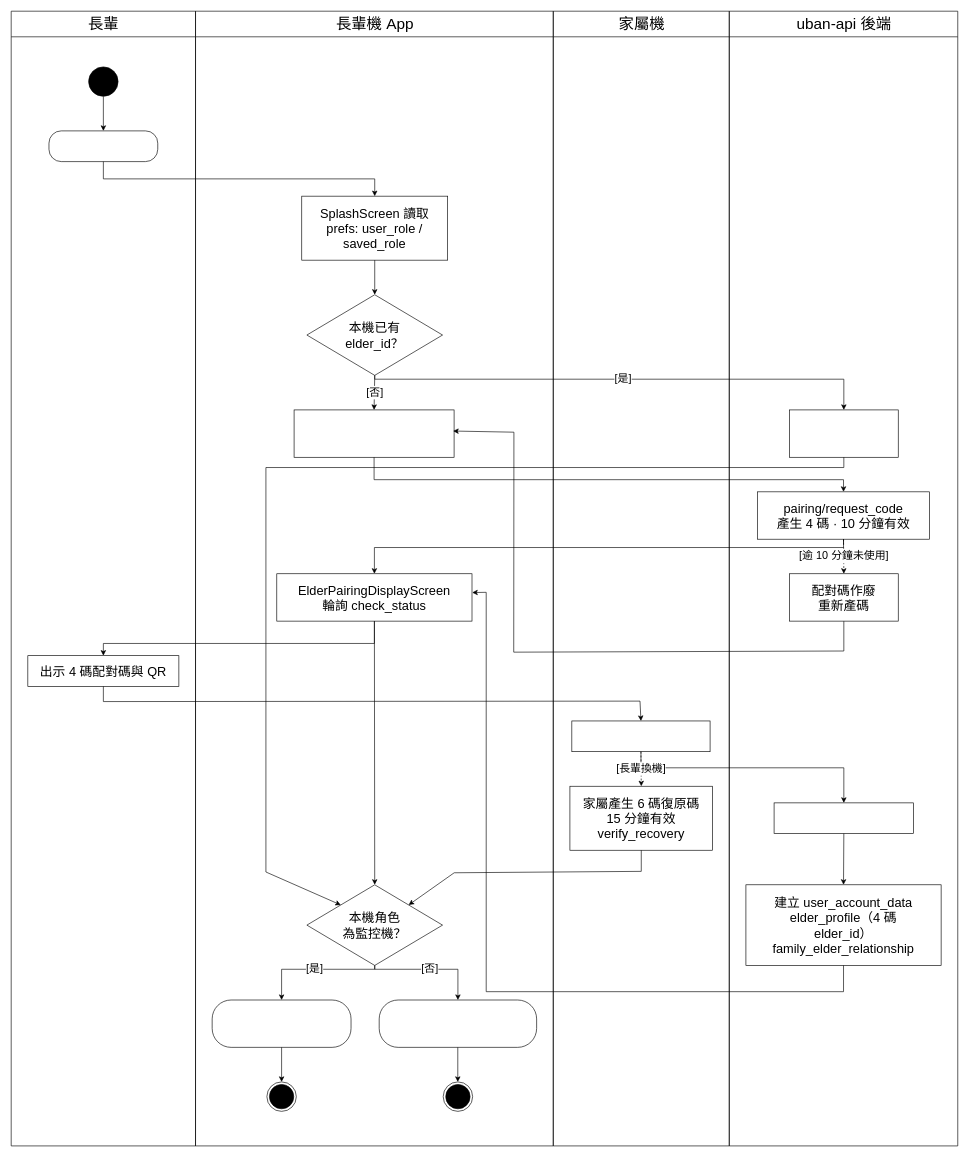
Image size: 969x1157. Some labels were removed from this diagram. The shapes that lost their labels are listed below. From the top down, each one's centre as x and y in pixels, then its label:
the point at 103,146: 開啟 App
the point at 373,433: IdentificationScreen 選擇『我是長者』
the point at 843,433: user/status 回傳權威 role
the point at 640,736: 輸入 4 碼或掃描 QR
the point at 843,818: confirm 確認配對碼
the point at 281,1023: 進入 ElderScreen isCCTVMode = true
the point at 458,1023: 進入 ElderHomeScreen 五分頁主畫面
